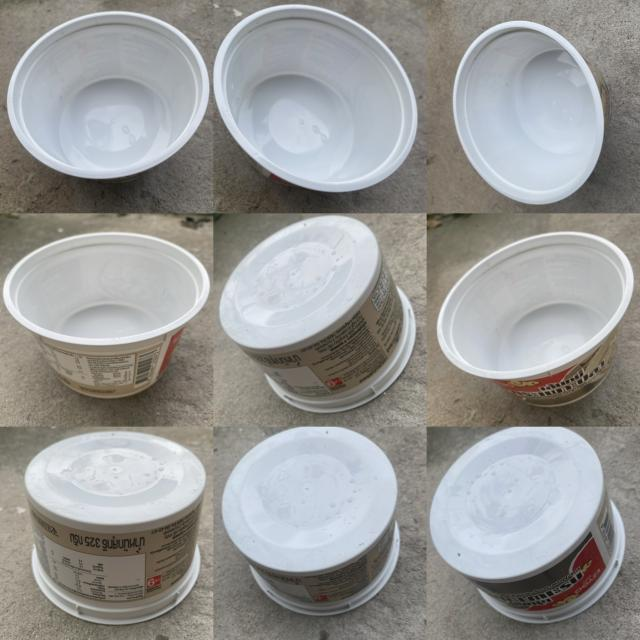Single-Use-Plastic: (219, 215, 415, 412), (214, 5, 418, 192), (430, 428, 625, 622), (25, 431, 206, 624), (4, 232, 210, 398), (8, 11, 209, 181), (438, 232, 634, 406), (221, 428, 400, 616), (452, 21, 609, 203)
